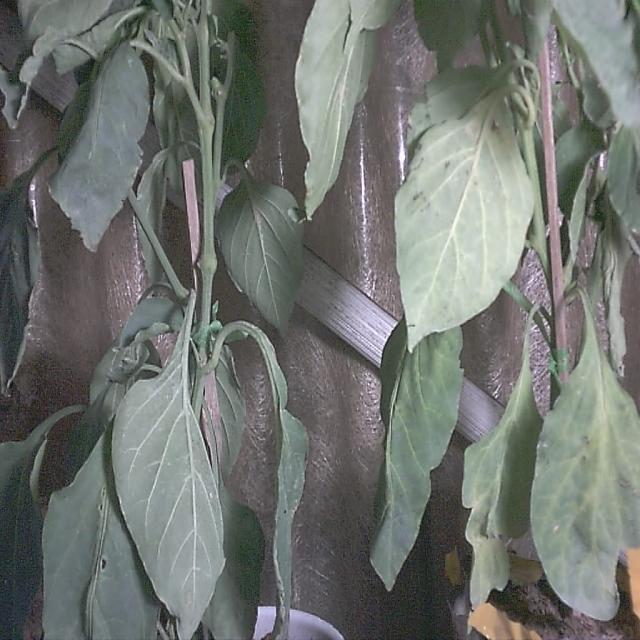Leaf: (394, 90, 532, 354), (111, 359, 227, 640), (526, 350, 640, 620), (47, 38, 151, 252), (214, 175, 306, 338)
